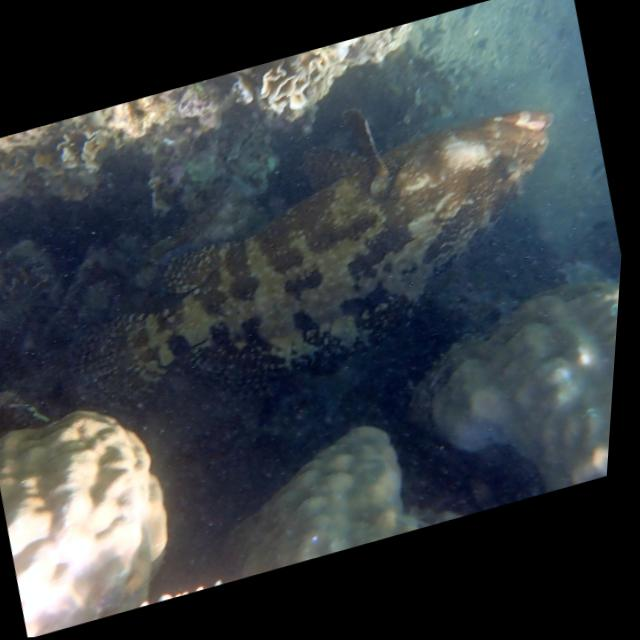Groupers: (7, 57, 600, 442)
